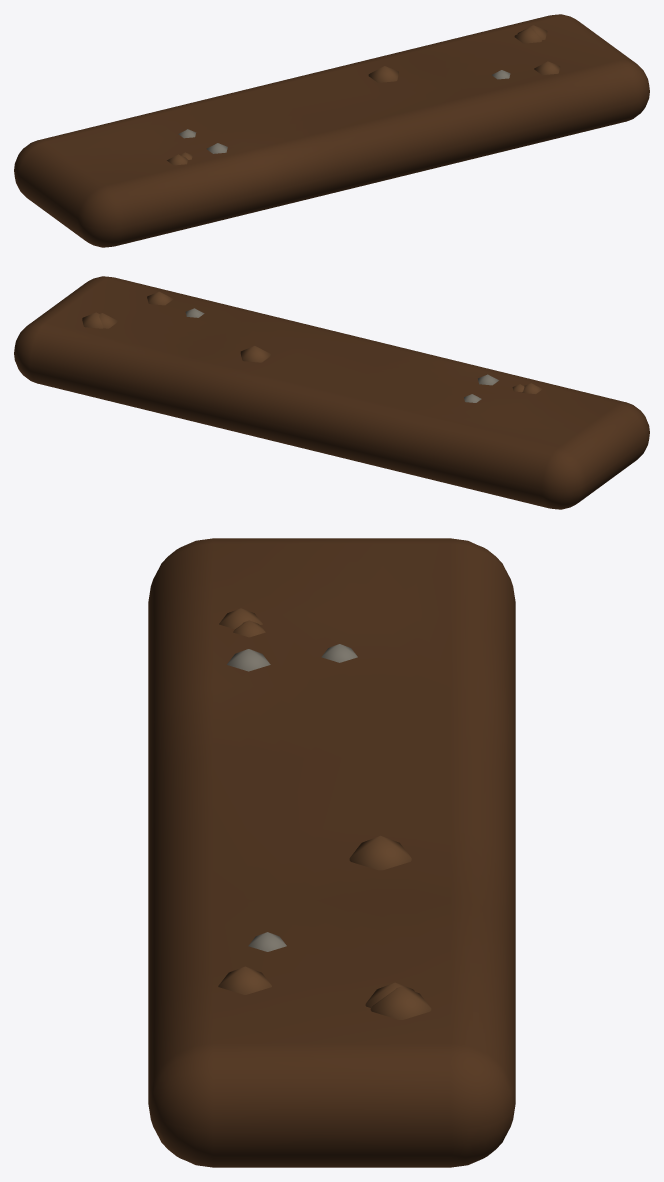
The model's file is crop_soil.glb.
3 renders of one model, top to bottom at view 1: azimuth 30°, elevation 25°; view 2: azimuth 150°, elevation 25°; view 3: azimuth 270°, elevation 25°, orthographic. The views are drawn at different scales.
Parts seen in each view (by area): view 1: crop_soil_main; view 2: crop_soil_main; view 3: crop_soil_main.
Boxes of the visible parts, left/top/right/bottom form: crop_soil_main: left=14, top=14, right=649, bottom=247; crop_soil_main: left=14, top=276, right=649, bottom=509; crop_soil_main: left=148, top=538, right=515, bottom=1167.
Bounding box in the file's own units: 1 × 0.1178 × 0.28.
